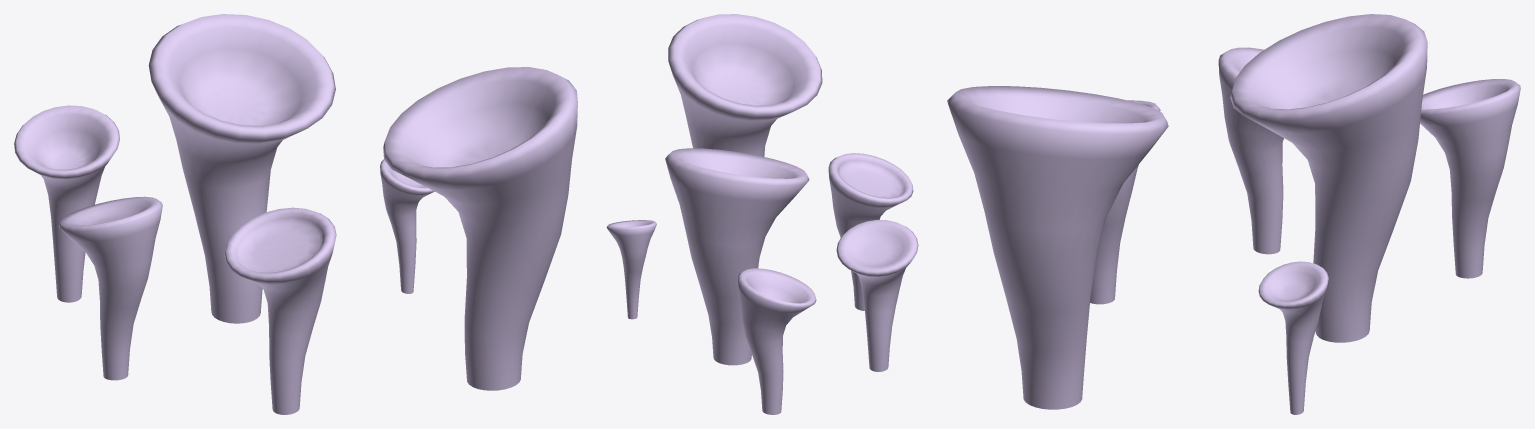
Rendered from mushroom.fbx.
The picture shows the model from 3 angles, left to right: view 1: azimuth 30°, elevation 25°; view 2: azimuth 150°, elevation 25°; view 3: azimuth 270°, elevation 25°; orthographic projection. The views are drawn at different scales.
Parts seen in each view (by area): view 1: Champi_1.001; view 2: Champi_1.001; view 3: Champi_1.001.
Boxes of the visible parts, x1,y1,x2,y2 form: Champi_1.001: [14, 14, 577, 414]; Champi_1.001: [606, 14, 918, 414]; Champi_1.001: [947, 14, 1520, 414].
Size of the model in its own units: 35.33 by 24.33 by 40.08.
